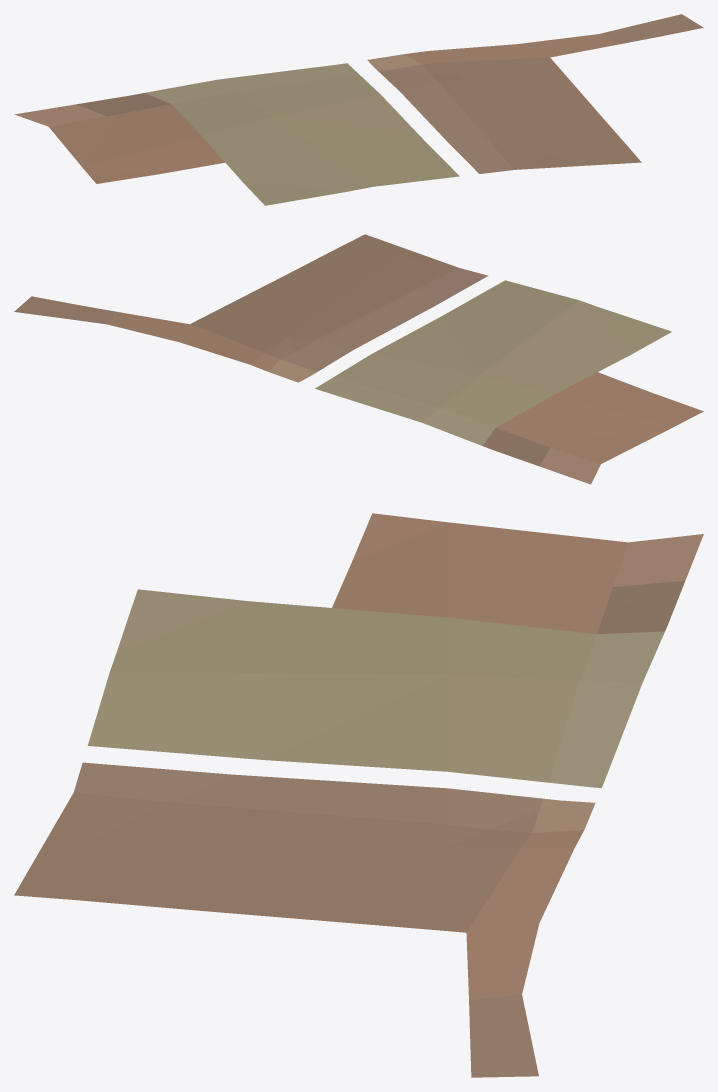
The model's file is farm_17_21_soil.glb.
3 renders of one model, top to bottom at view 1: azimuth 30°, elevation 25°; view 2: azimuth 150°, elevation 25°; view 3: azimuth 270°, elevation 25°, orthographic. The views are drawn at different scales.
Parts seen in each view (by area): view 1: geometry_0; view 2: geometry_0; view 3: geometry_0.
Part boxes in pixels (left/top/right/bottom): geometry_0: left=14, top=14, right=703, bottom=205; geometry_0: left=14, top=234, right=703, bottom=484; geometry_0: left=14, top=513, right=703, bottom=1077.
Size of the model in its own units: 267 by 10.12 by 147.
